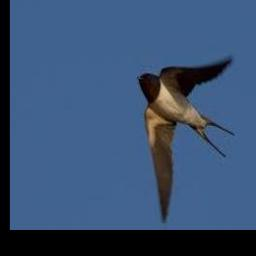Swallow: (138, 56, 235, 225)
